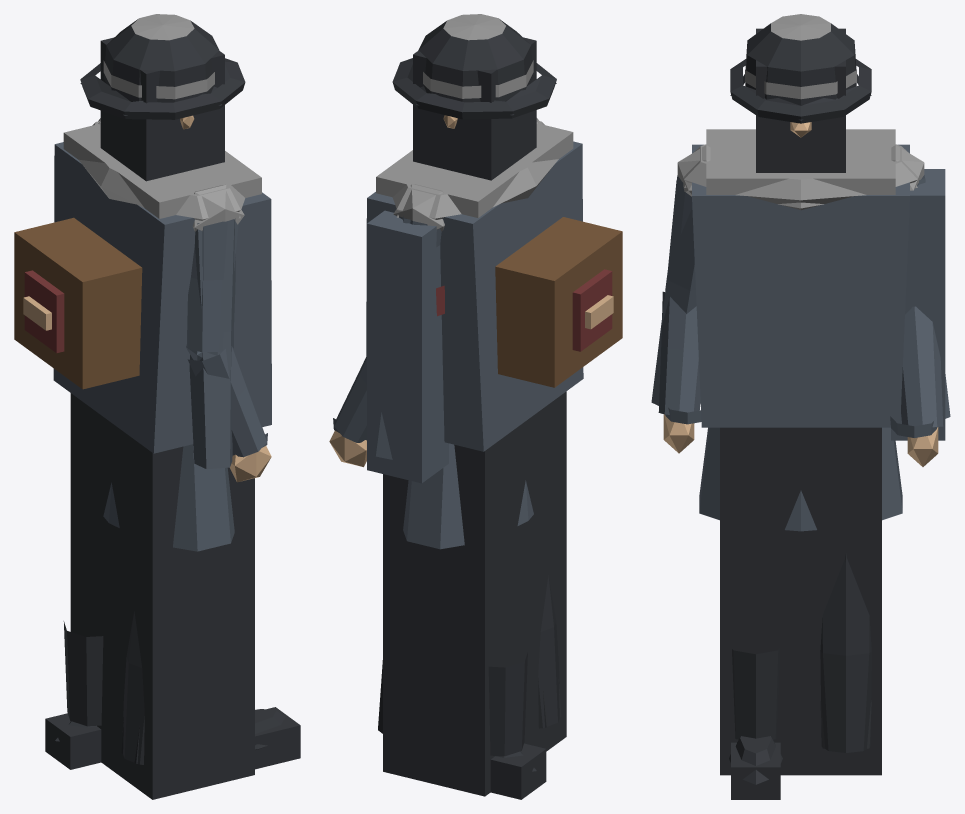
The model's file is veyran_medic.glb.
3 views of the same model, side by side, from view 1: azimuth 30°, elevation 25°; view 2: azimuth 150°, elevation 25°; view 3: azimuth 270°, elevation 25° (orthographic).
Parts seen in each view (by area): view 1: torso (×2), leg_l (×3), head (×2), arm_r (×2), leg_r (×2); view 2: leg_l (×3), torso (×3), arm_l (×3), head (×2), leg_r; view 3: torso (×3), leg_l (×2), head (×2), arm_l (×2), arm_r (×2), leg_r (×2).
Boxes of the visible parts, box(x1,y1,x2,y2) form: torso (×2): box(14, 121, 271, 551); leg_l (×3): box(45, 393, 254, 799); head (×2): box(80, 14, 245, 181); arm_r (×2): box(186, 184, 271, 482); leg_r (×2): box(121, 611, 300, 769); leg_l (×3): box(378, 391, 566, 799); torso (×3): box(366, 120, 622, 549); arm_l (×3): box(329, 184, 448, 483); head (×2): box(392, 14, 556, 180); leg_r: box(538, 575, 559, 728); torso (×3): box(684, 129, 917, 531); leg_l (×2): box(720, 427, 881, 775); head (×2): box(730, 14, 871, 172); arm_l (×2): box(890, 145, 945, 466); arm_r (×2): box(651, 145, 710, 453); leg_r (×2): box(729, 649, 782, 799).
Size of the model in its own units: 0.6129 by 1.77 by 0.6634.
